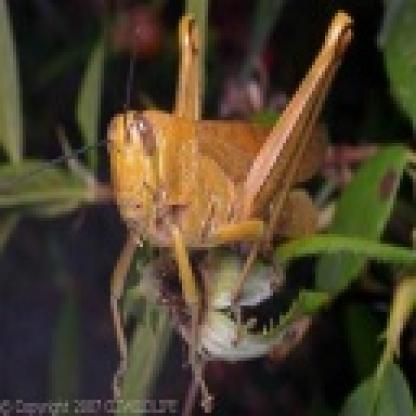grasshopper: (67, 16, 379, 380)
